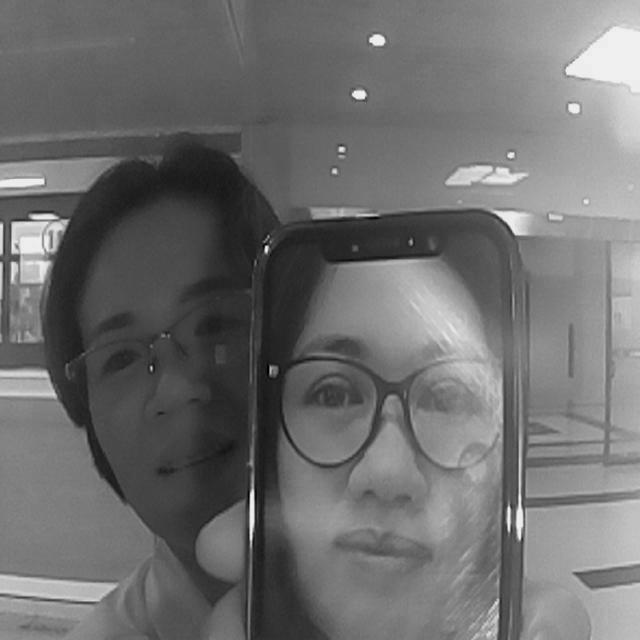fake: (237, 210, 528, 640)
